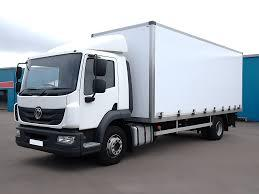truck: (10, 29, 144, 169)
